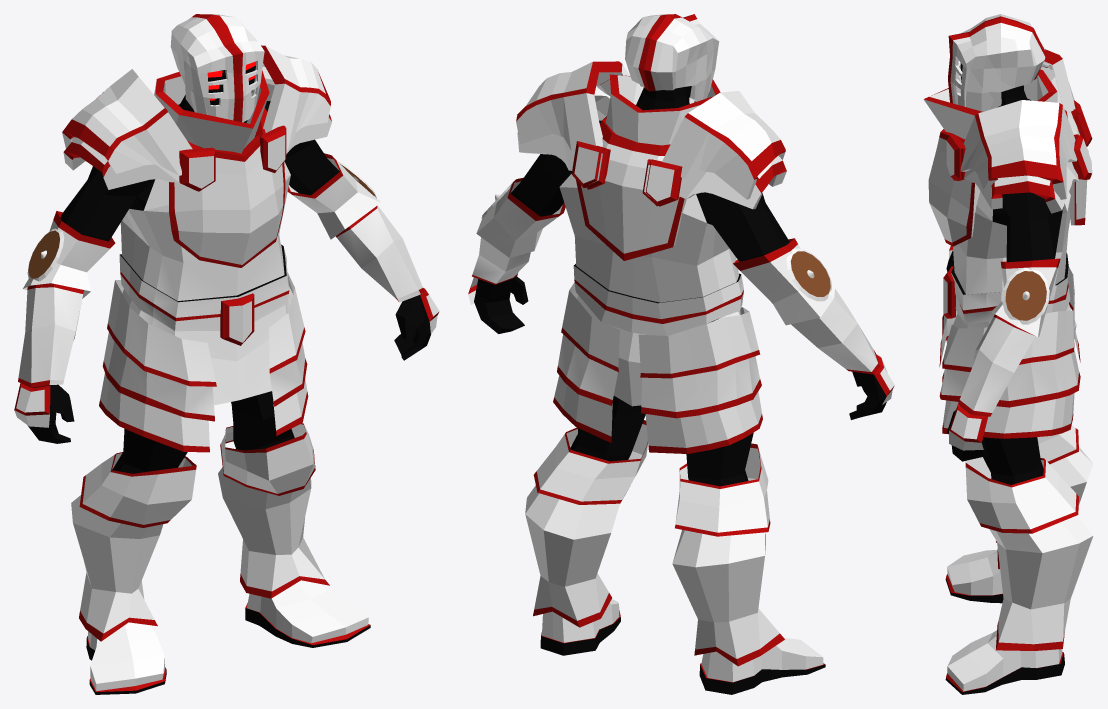
Rendered from Mozgus.fbx.
3 renders of one model, left to right at view 1: azimuth 30°, elevation 25°; view 2: azimuth 150°, elevation 25°; view 3: azimuth 270°, elevation 25°, orthographic. The views are drawn at different scales.
Parts seen in each view (by area): view 1: tank; view 2: tank; view 3: tank.
Boxes of the visible parts, x1,y1,x2,y2 form: tank: (14,14,439,694); tank: (468,14,894,694); tank: (923,14,1093,694).
Bounding box in the file's own units: 118 × 170 × 42.64.
